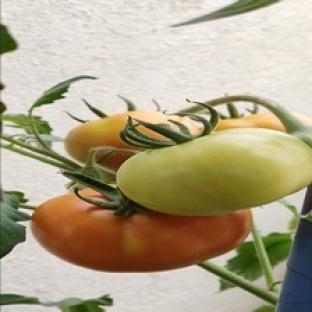Tomato: (31, 194, 252, 271), (117, 129, 311, 215), (65, 112, 199, 169), (215, 112, 285, 132)
